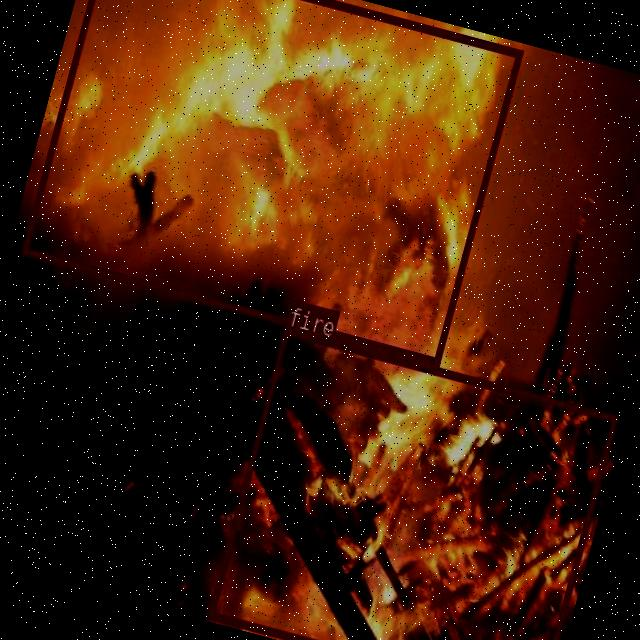fire: (18, 0, 521, 364), (206, 324, 617, 640)
